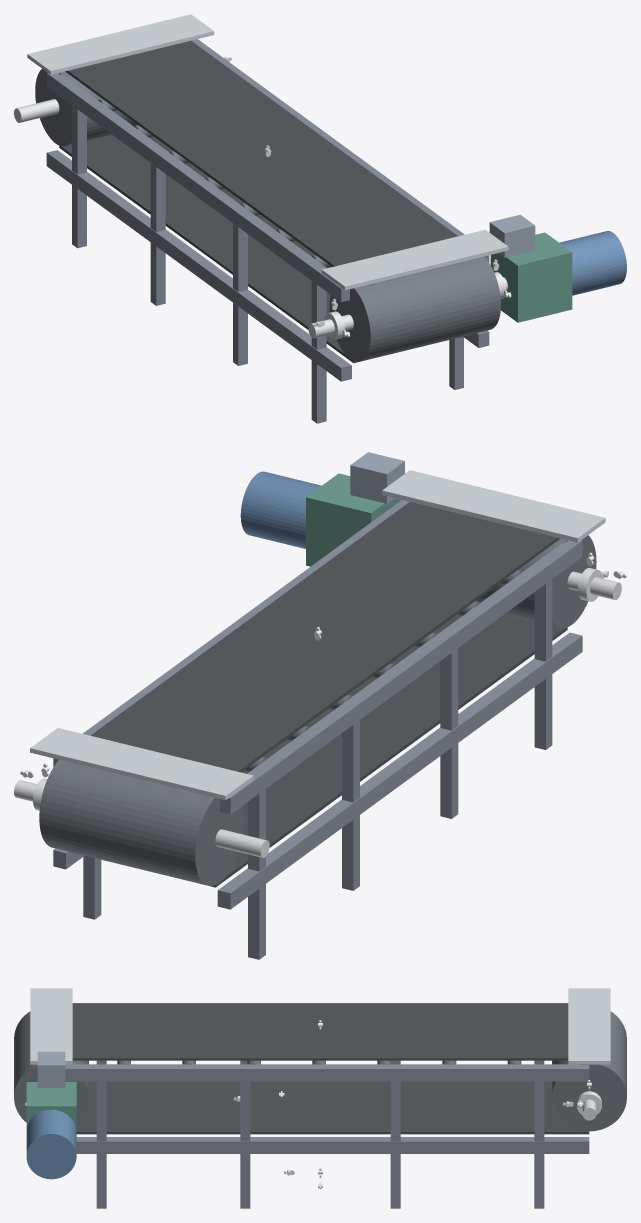
The model's file is conveyor.glb.
The picture shows the model from 3 angles, top to bottom: view 1: azimuth 30°, elevation 25°; view 2: azimuth 150°, elevation 25°; view 3: azimuth 270°, elevation 25°; orthographic projection. The views are drawn at different scales.
Visible parts, largest first — view 1: CASING_BELT_020, PART_022, CASING_BELT_021, PART_001, PART_002, CASING_GEARMOTOR_028, CASING_SKIRT_026, CASING_SKIRT_023, CASING_GEARMOTOR_029, PART_025, PART_003, PART_007 (+6 smaller); view 2: CASING_BELT_020, PART_025, CASING_BELT_021, PART_001, PART_002, CASING_SKIRT_023, CASING_SKIRT_026, CASING_GEARMOTOR_029, CASING_GEARMOTOR_028, PART_022, PART_009, PART_011 (+7 smaller); view 3: CASING_BELT_020, CASING_BELT_021, PART_003, PART_004, PART_025, CASING_SKIRT_026, CASING_GEARMOTOR_029, CASING_SKIRT_023, PART_022, CASING_GEARMOTOR_028, PART_006, PART_008 (+4 smaller).
Part boxes in pixels (x1=…): CASING_BELT_020: x1=65, y1=40, x2=457, y2=266; PART_022: x1=329, y1=256, x2=500, y2=361; CASING_BELT_021: x1=59, y1=135, x2=357, y2=363; PART_001: x1=46, y1=73, x2=349, y2=302; PART_002: x1=46, y1=150, x2=351, y2=381; CASING_GEARMOTOR_028: x1=490, y1=232, x2=572, y2=322; CASING_SKIRT_026: x1=27, y1=14, x2=214, y2=74; CASING_SKIRT_023: x1=322, y1=229, x2=508, y2=290; CASING_GEARMOTOR_029: x1=559, y1=231, x2=626, y2=295; PART_025: x1=35, y1=69, x2=137, y2=146; PART_003: x1=191, y1=39, x2=489, y2=262; PART_007: x1=150, y1=163, x2=165, y2=305; CASING_BELT_020: x1=90, y1=502, x2=560, y2=772; PART_025: x1=39, y1=760, x2=244, y2=885; CASING_BELT_021: x1=208, y1=614, x2=567, y2=887; PART_001: x1=220, y1=540, x2=582, y2=814; PART_002: x1=217, y1=632, x2=582, y2=909; CASING_SKIRT_023: x1=382, y1=470, x2=605, y2=542; CASING_SKIRT_026: x1=30, y1=728, x2=253, y2=800; CASING_GEARMOTOR_029: x1=240, y1=471, x2=321, y2=548; CASING_GEARMOTOR_028: x1=306, y1=473, x2=401, y2=566; PART_022: x1=475, y1=535, x2=596, y2=628; PART_009: x1=440, y1=648, x2=458, y2=818; PART_011: x1=534, y1=579, x2=552, y2=749; CASING_BELT_020: x1=72, y1=1003, x2=568, y2=1060; CASING_BELT_021: x1=76, y1=1081, x2=589, y2=1134; PART_003: x1=65, y1=1064, x2=589, y2=1081; PART_004: x1=76, y1=1137, x2=589, y2=1153; PART_025: x1=552, y1=1011, x2=626, y2=1131; CASING_SKIRT_026: x1=568, y1=988, x2=610, y2=1064; CASING_GEARMOTOR_029: x1=26, y1=1109, x2=76, y2=1179; CASING_SKIRT_023: x1=30, y1=988, x2=72, y2=1064; PART_022: x1=14, y1=1011, x2=88, y2=1122; CASING_GEARMOTOR_028: x1=26, y1=1082, x2=76, y2=1157; PART_006: x1=534, y1=1081, x2=544, y2=1208; PART_008: x1=390, y1=1081, x2=400, y2=1208.
Bounding box in the file's own units: 2.56 × 1.43 × 4.9.
